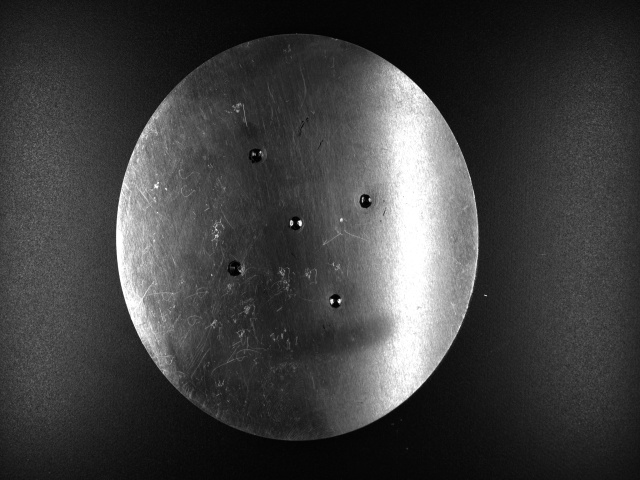zhen_kong: (245, 146, 269, 167), (285, 213, 309, 234), (224, 258, 245, 278), (357, 190, 373, 211), (327, 291, 341, 311)
